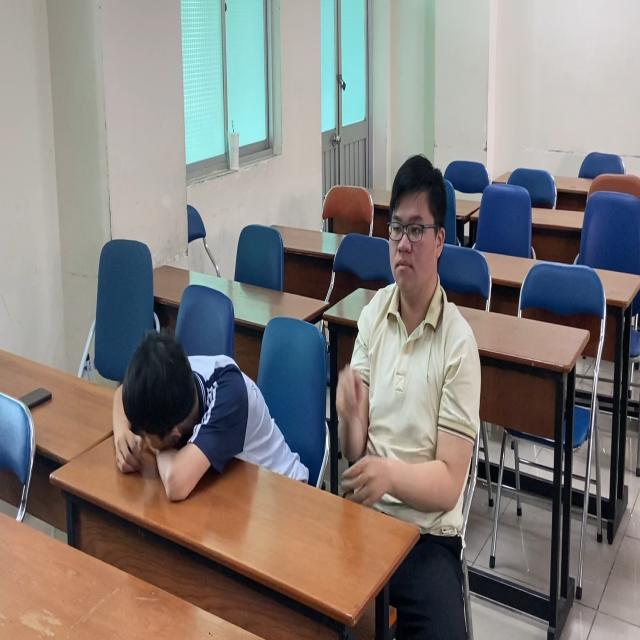sleep: (108, 321, 303, 496)
